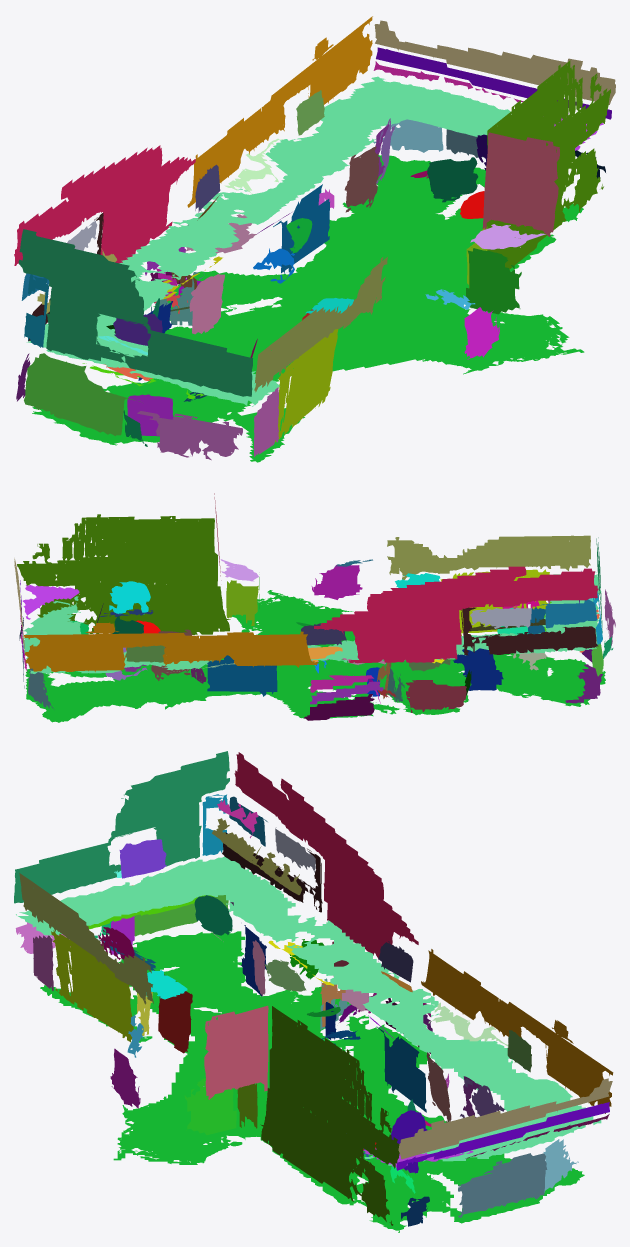
File: airplanes_scene0131.glb
The picture shows the model from 3 angles, top to bottom: view 1: azimuth 30°, elevation 25°; view 2: azimuth 150°, elevation 25°; view 3: azimuth 270°, elevation 25°; orthographic projection. The views are drawn at different scales.
Parts seen in each view (by area): view 1: Node1; view 2: Node1; view 3: Node1.
Boxes of the visible parts, x1,y1,x2,y2 form: Node1: [14, 16, 615, 462]; Node1: [14, 493, 615, 722]; Node1: [14, 751, 613, 1232].
Size of the model in its own units: 7.62 by 2.17 by 6.23.
